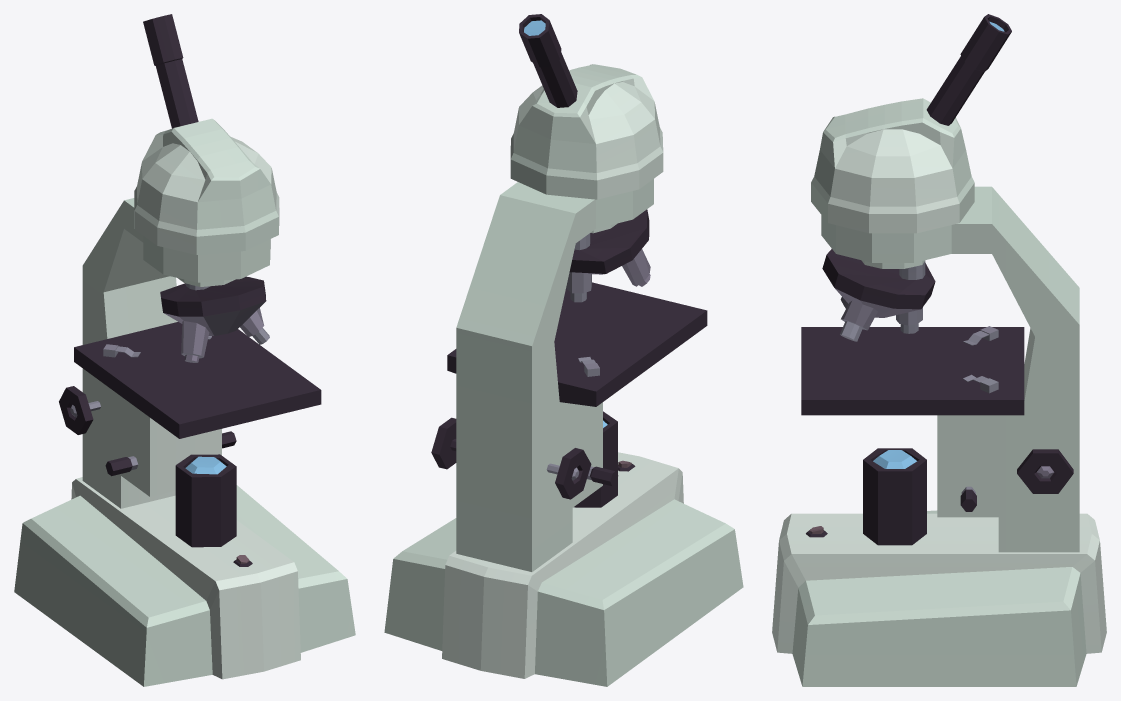
File: Microscope.fbx
3 renders of one model, left to right at view 1: azimuth 30°, elevation 25°; view 2: azimuth 150°, elevation 25°; view 3: azimuth 270°, elevation 25°, orthographic. The views are drawn at different scales.
Visible parts, largest first — view 1: Microscope; view 2: Microscope; view 3: Microscope.
Part boxes in pixels (x1=…): Microscope: x1=14, y1=14, x2=355, y2=686; Microscope: x1=384, y1=14, x2=743, y2=686; Microscope: x1=772, y1=14, x2=1106, y2=686.
Size of the model in its own units: 78.22 by 205 by 101.
